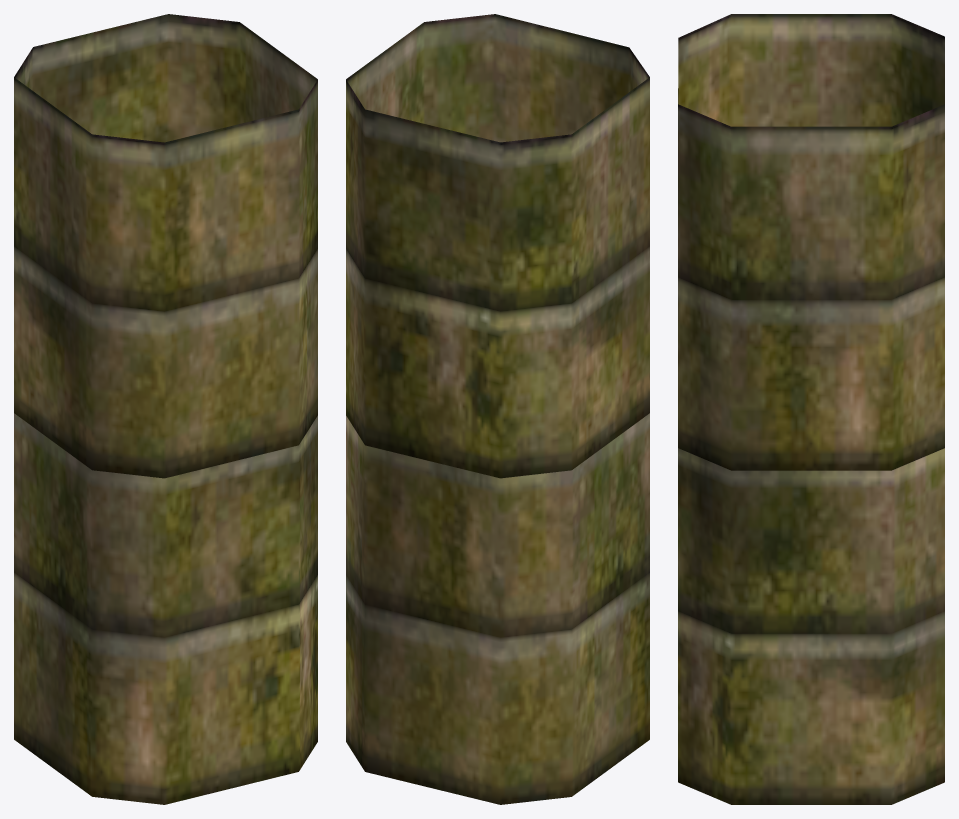
The model's file is OVERHILL_A_01_LINE447.fbx.
3 views of the same model, side by side, from view 1: azimuth 30°, elevation 25°; view 2: azimuth 150°, elevation 25°; view 3: azimuth 270°, elevation 25° (orthographic). The views are drawn at different scales.
Visible parts, largest first — view 1: OVERHILL_A_01_LINE447; view 2: OVERHILL_A_01_LINE447; view 3: OVERHILL_A_01_LINE447.
Part boxes in pixels (box(x1,y1,x2,y2)): OVERHILL_A_01_LINE447: box(14, 14, 317, 804); OVERHILL_A_01_LINE447: box(346, 14, 649, 804); OVERHILL_A_01_LINE447: box(678, 14, 944, 804).
Bounding box in the file's own units: 9604 × 26954 × 9604.
Materials: 1 (1 with a texture image).
